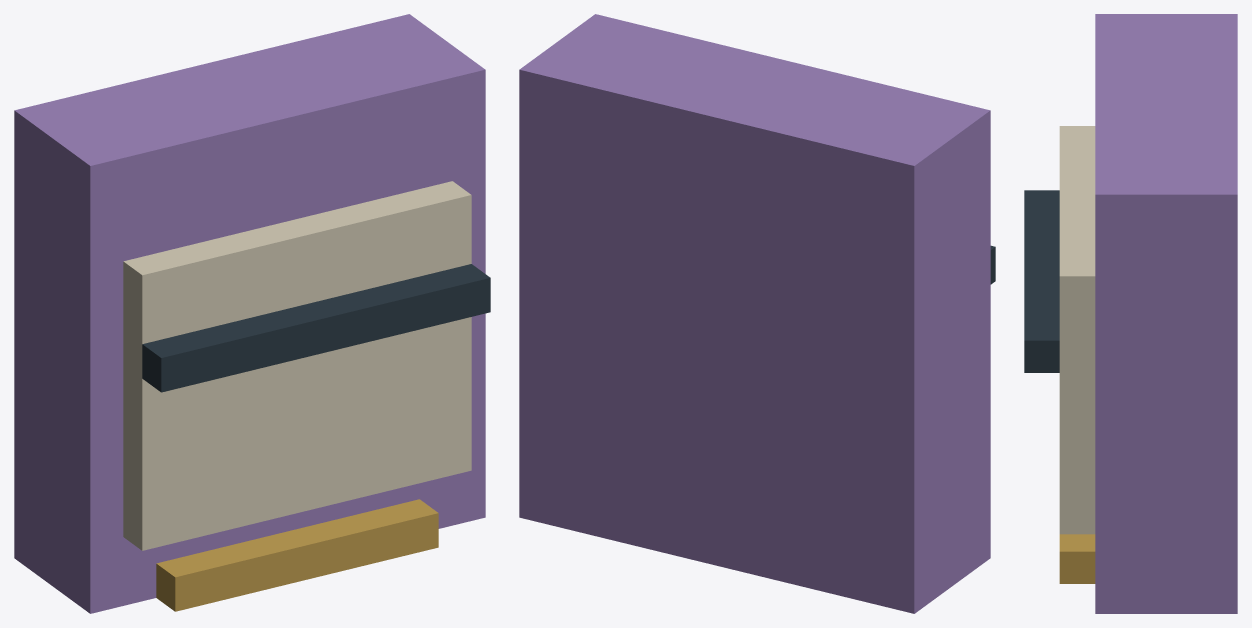
The model's file is games-16.glb.
The picture shows the model from 3 angles, left to right: view 1: azimuth 30°, elevation 25°; view 2: azimuth 150°, elevation 25°; view 3: azimuth 270°, elevation 25°; orthographic projection. The views are drawn at different scales.
Parts seen in each view (by area): view 1: Game cartridge; view 2: Game cartridge; view 3: Game cartridge.
Boxes of the visible parts, x1,y1,x2,y2 form: Game cartridge: (14,14,490,613); Game cartridge: (519,14,995,613); Game cartridge: (1024,14,1237,613).
Bounding box in the file's own units: 0.96 × 1.04 × 0.48.
